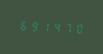four: (51, 19, 61, 34)
nine: (28, 18, 38, 33)
one: (40, 19, 50, 33)
seven: (62, 20, 72, 35)
six: (17, 18, 27, 32)
zero: (73, 21, 83, 35)
